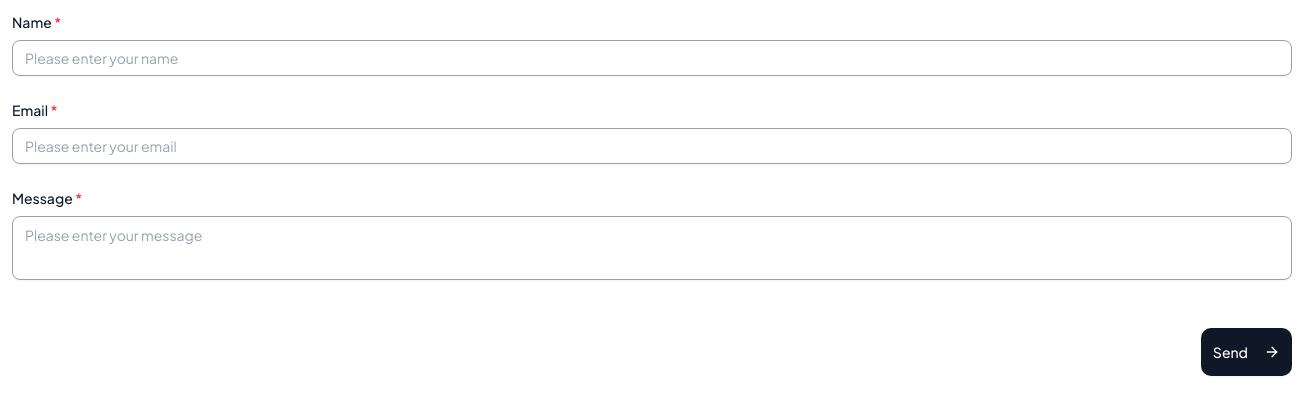
Test: ContactForm › disables the submit button while submitting
In the field labelled "Name *": (652, 58) [12,40,1292,76], type "Jane Doe"
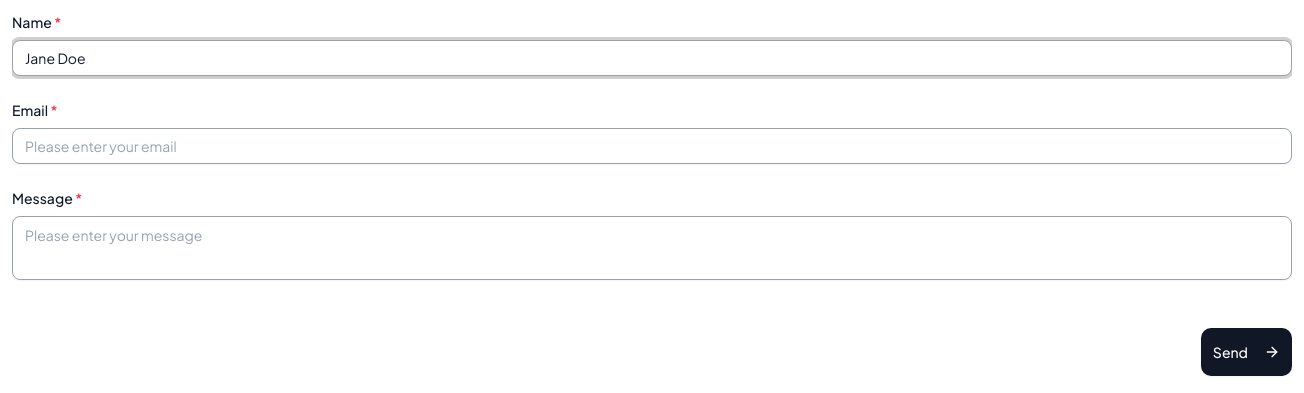
In the field labelled "Email *": (652, 146) [12,128,1292,164], type "jane@example.com"
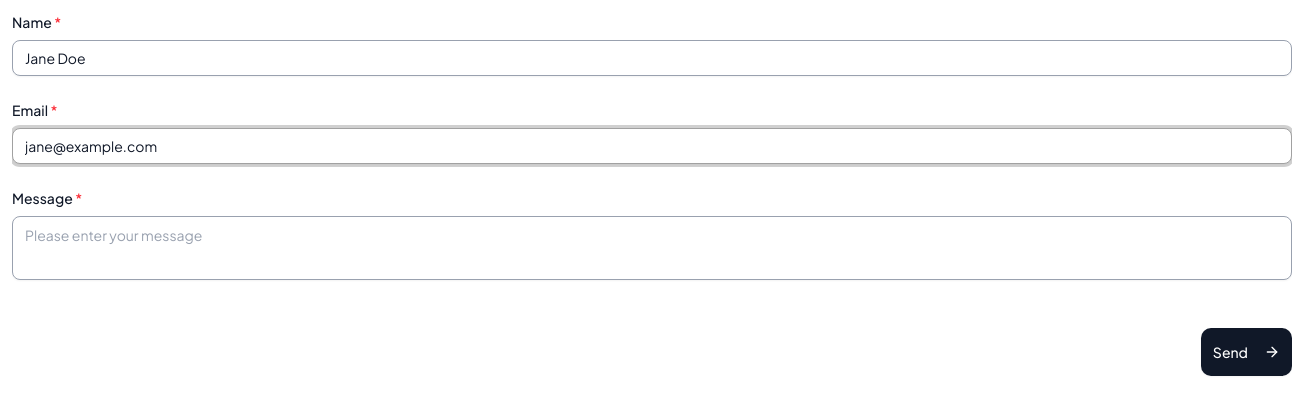
In the text box labelled "Message *": (652, 248) [12,216,1292,280], type "Test message"
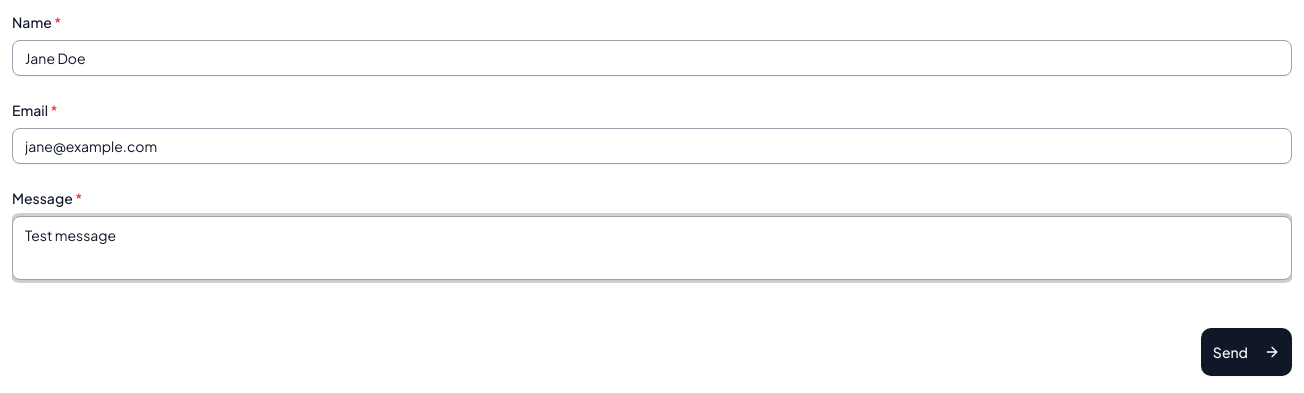
Submit the form "Name * Email * Message * Send"
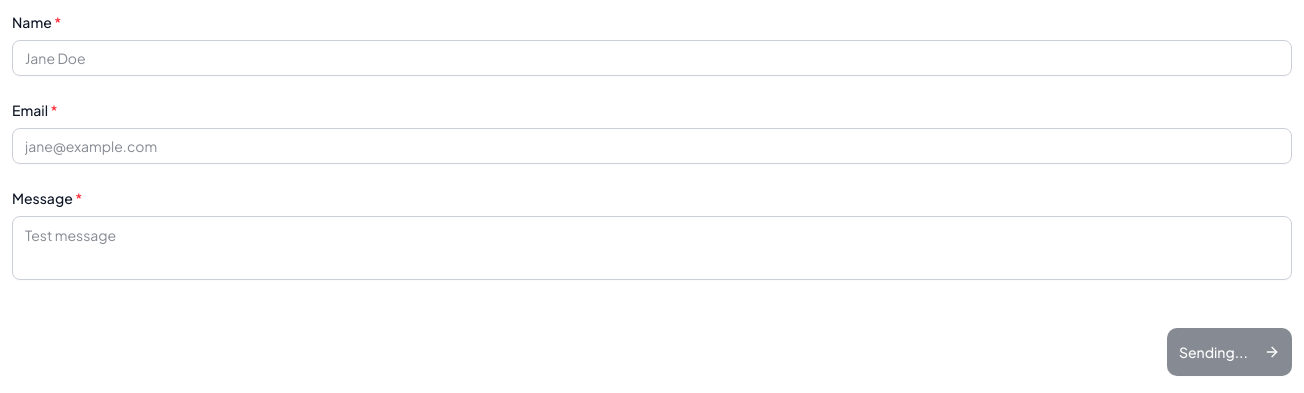
Expected: the button "Sending..." is disabled, [1167,328,1292,376]
